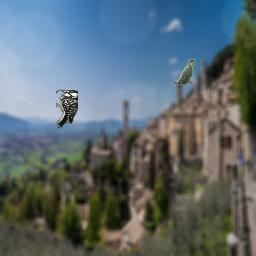Cuckoo: (175, 59, 196, 85)
Woodpecker: (56, 89, 78, 129)
